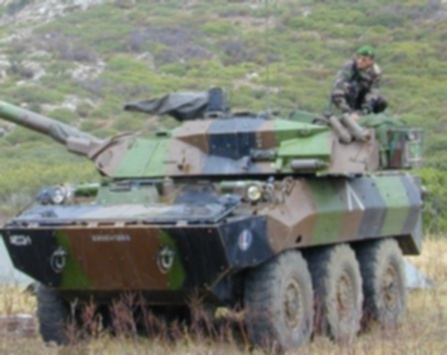license_plate: (90, 233, 132, 243)
